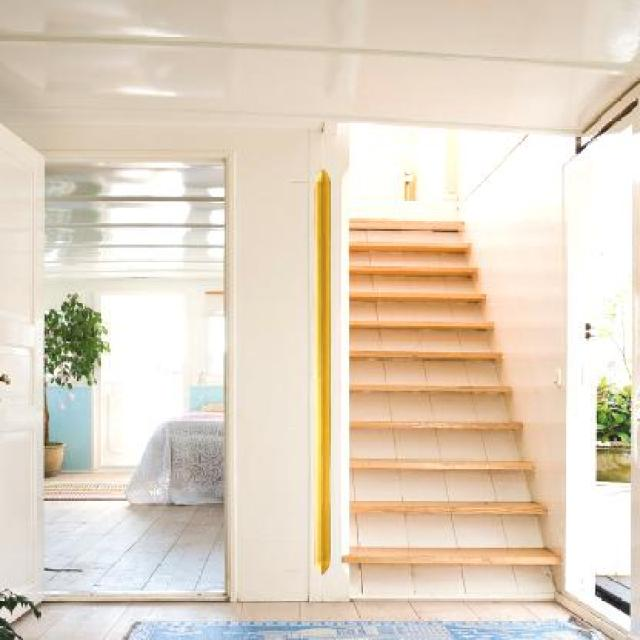stair: (263, 163, 595, 612)
